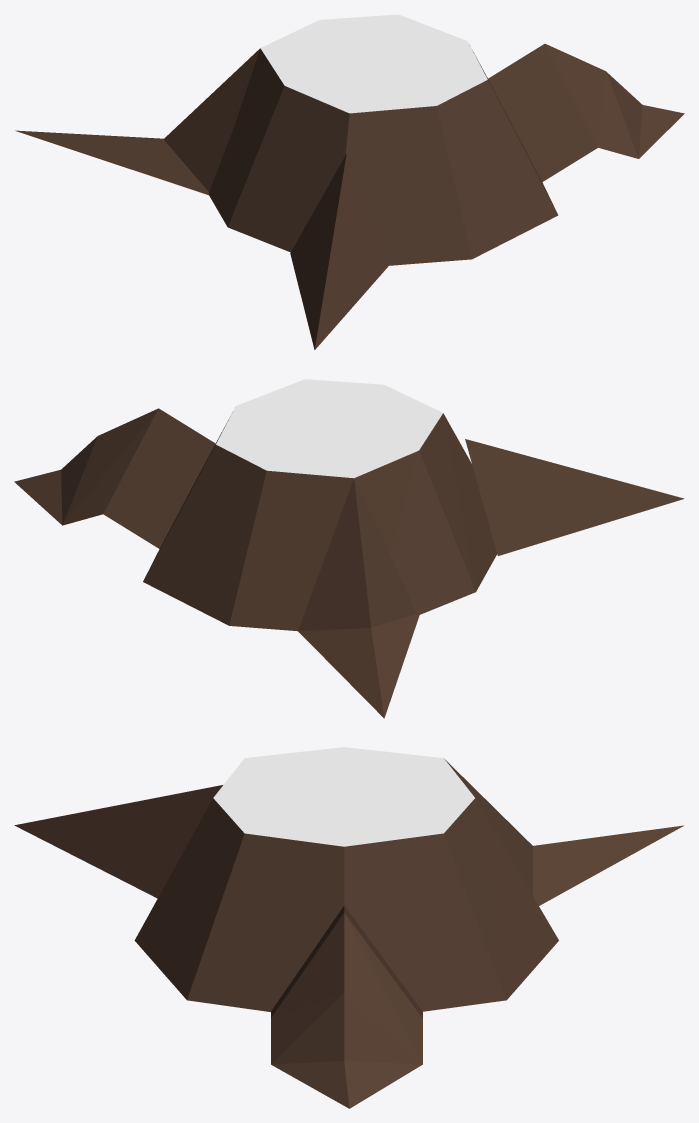
The picture shows the model from 3 angles, top to bottom: view 1: azimuth 30°, elevation 25°; view 2: azimuth 150°, elevation 25°; view 3: azimuth 270°, elevation 25°; orthographic projection. The views are drawn at different scales.
Bounding box in the file's own units: 128 × 30 × 128.
1 material, 1 textured.
